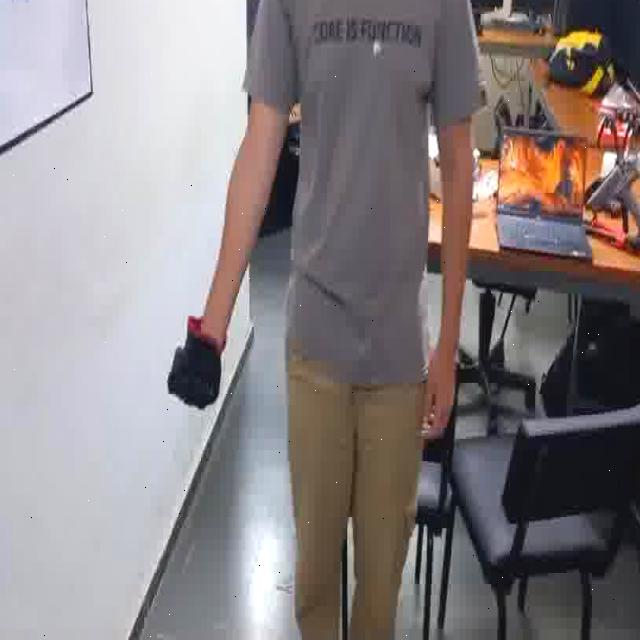Gloves: (160, 318, 230, 421)
